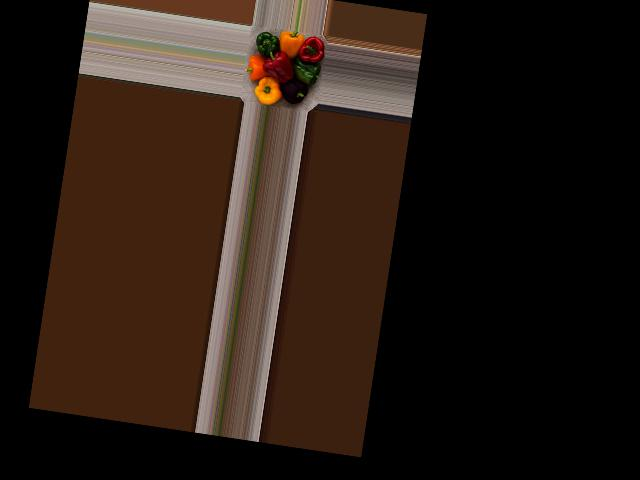bell_pepper: (278, 71, 317, 105)
